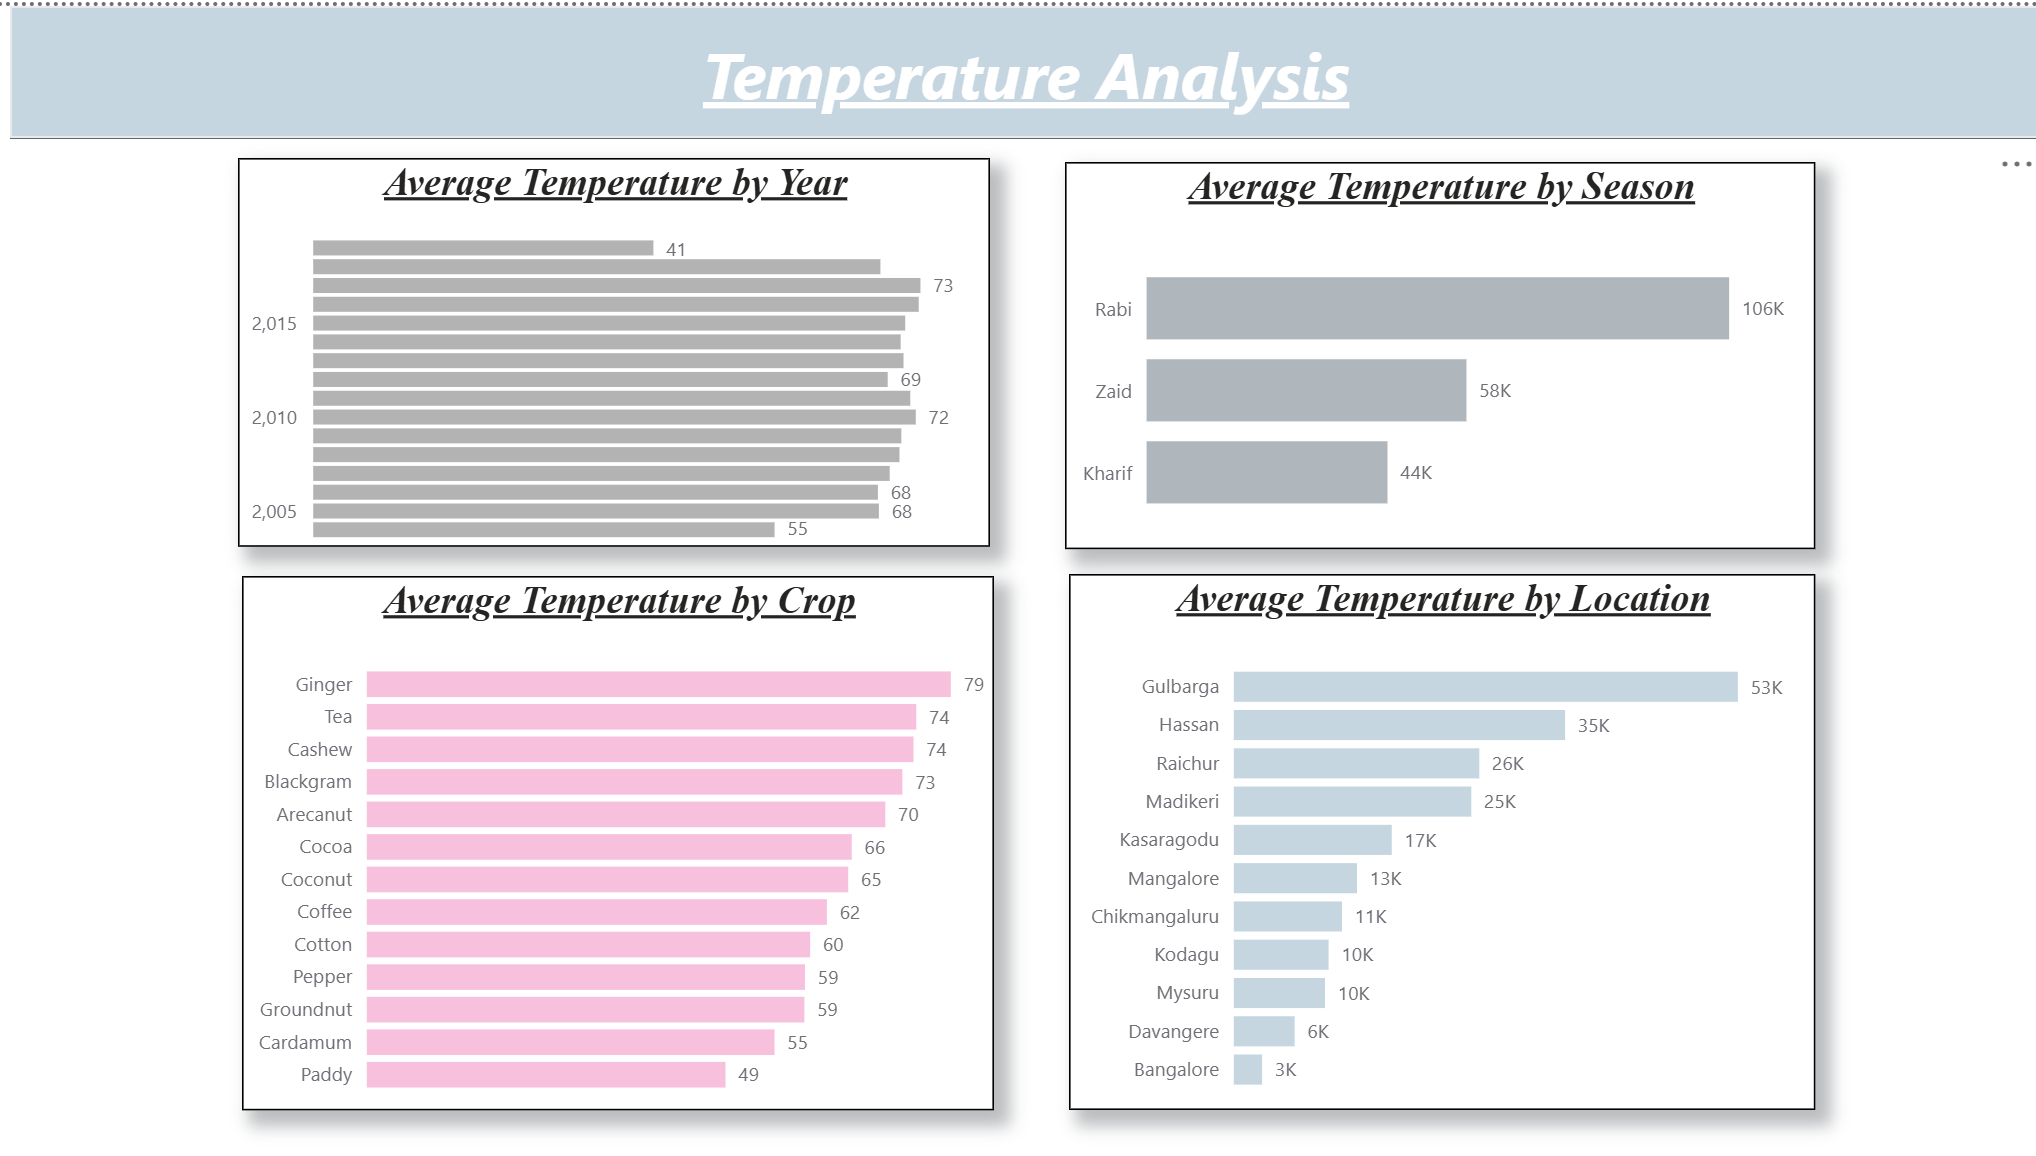

Layout of this report page (visuals, bound fields, positions):
{"tool":"powerbi","page":{"name":"Temperature_Analysis","canvas":[1280,720],"ordinal":1},"visuals":[{"type":"shape","box":[10.4,0,1269.5,82.9],"z":0},{"type":"barChart","title":"Average Temperature by Year","fields":{"Category":["AGRICULTURE.YEAR"],"Y":["Avg(AGRICULTURE.TEMPERATURE)"]},"box":[152.5,95.6,470,243.1],"z":1000},{"type":"barChart","title":"Average Temperature by Season","fields":{"Category":["AGRICULTURE.SEASON"],"Y":["Sum(AGRICULTURE.TEMPERATURE)"]},"box":[668.7,97.1,469.1,242.1],"z":2000},{"type":"barChart","title":"Average Temperature by Crop","fields":{"Category":["AGRICULTURE.CROPS"],"Y":["Avg(AGRICULTURE.TEMPERATURE)"]},"box":[154.8,356,470,334.1],"z":3000},{"type":"barChart","title":"Average Temperature by Location","fields":{"Category":["AGRICULTURE.LOCATION"],"Y":["Sum(AGRICULTURE.TEMPERATURE)"]},"box":[671.5,355.6,466.3,335],"z":4000}]}

Visuals, with their boxes in screenshot pixels (x1, y1, x2, y2), scaled from the page's 1280x720 canvas onto the 2036x1156 screenshot:
shape: x1=17, y1=0, x2=2035, y2=133
"Average Temperature by Year" barChart: x1=243, y1=153, x2=990, y2=544
"Average Temperature by Season" barChart: x1=1064, y1=156, x2=1810, y2=545
"Average Temperature by Crop" barChart: x1=246, y1=572, x2=994, y2=1108
"Average Temperature by Location" barChart: x1=1068, y1=571, x2=1810, y2=1109
